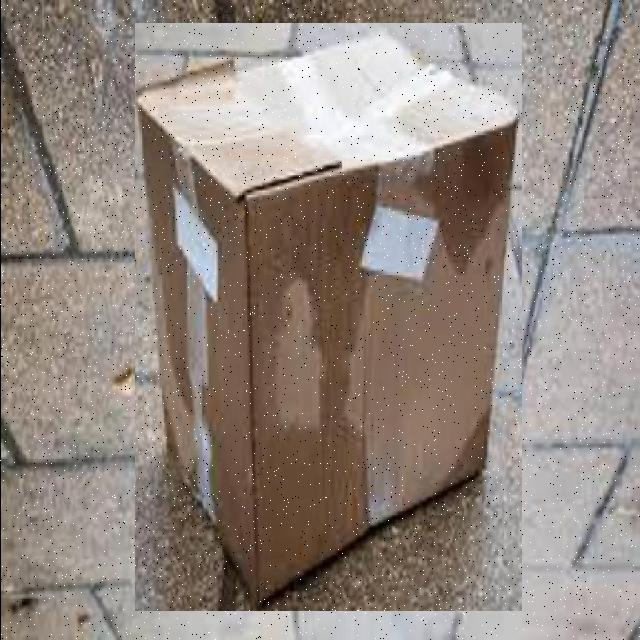defect: (134, 23, 521, 611)
